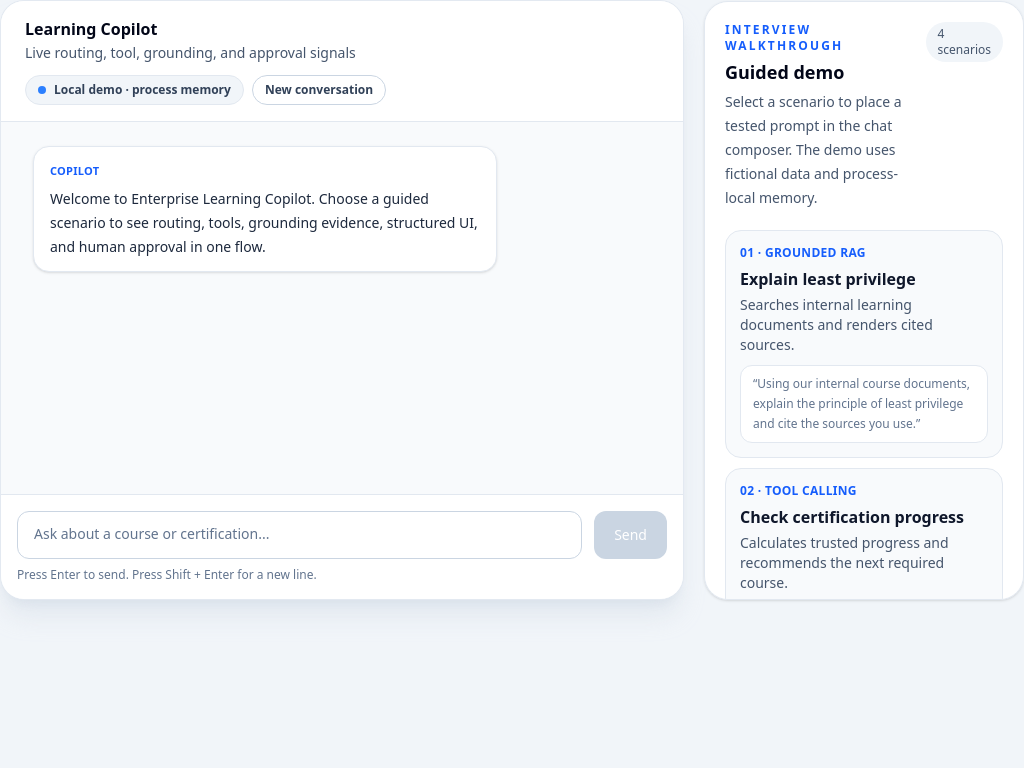
Test case: ChatContainer presentation flow › loads a guided prompt and renders its streamed workflow evidence
expect the text "Local demo · process memory" is shown: met, box [25,75,244,105]
Click the button "Explain least privilege": (803, 252) [725,230,1003,458]
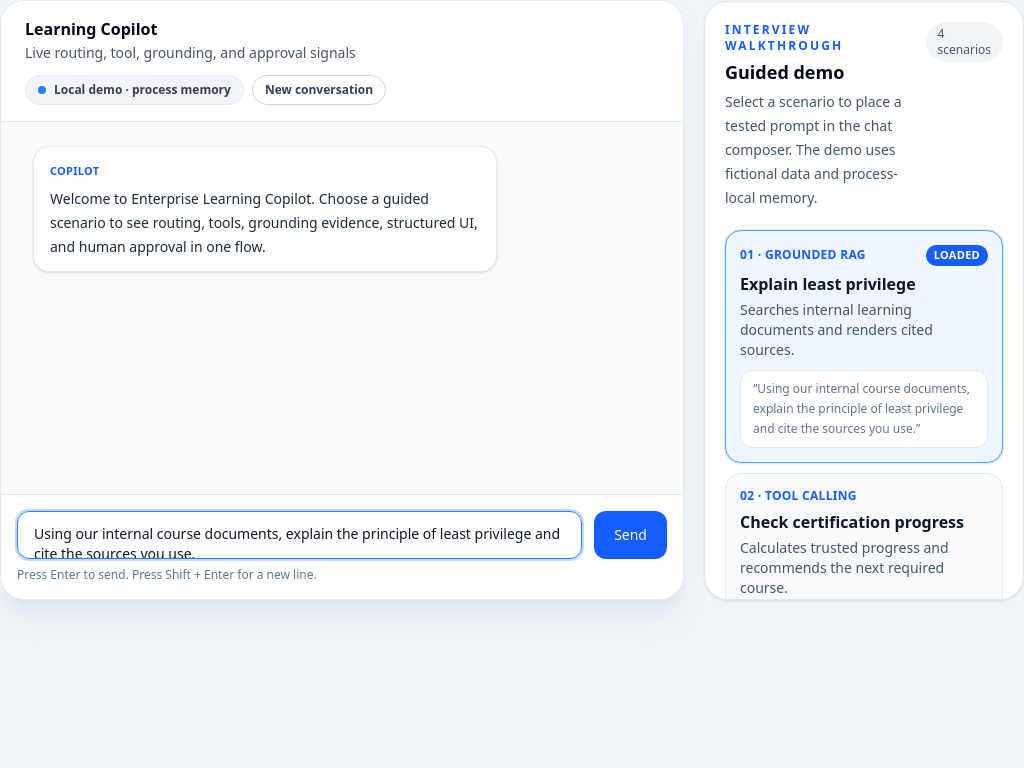
expect the text box named "Ask the learning copilot a question" holds "Using our internal course documents, explain the principle of least privilege and cite the sources you use.": met, box [17,511,582,559]
expect the text "Loaded" is shown: met, box [926,245,988,266]
Click the button "Send": (631, 535) [594,511,667,559]
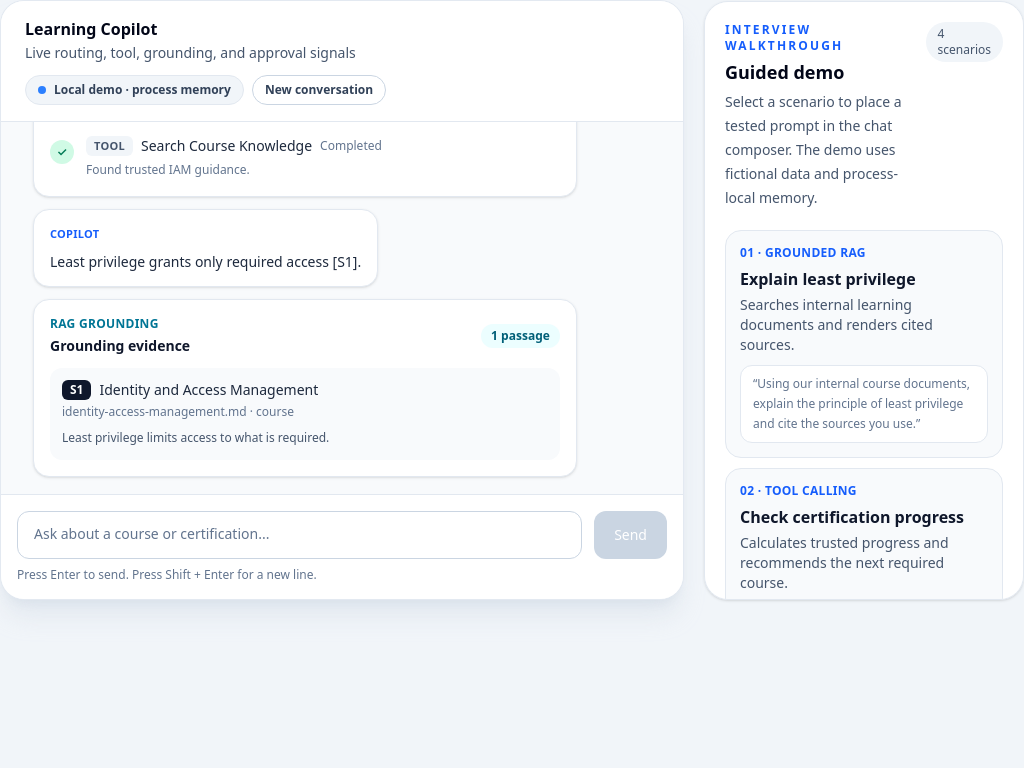
expect the text "Tool" is shown: met, box [86,136,133,156]
expect the text "Least privilege grants only required access [S1]." is shown: met, box [50,250,361,274]
expect the text "Identity and Access Management" is shown: met, box [100,380,318,400]
